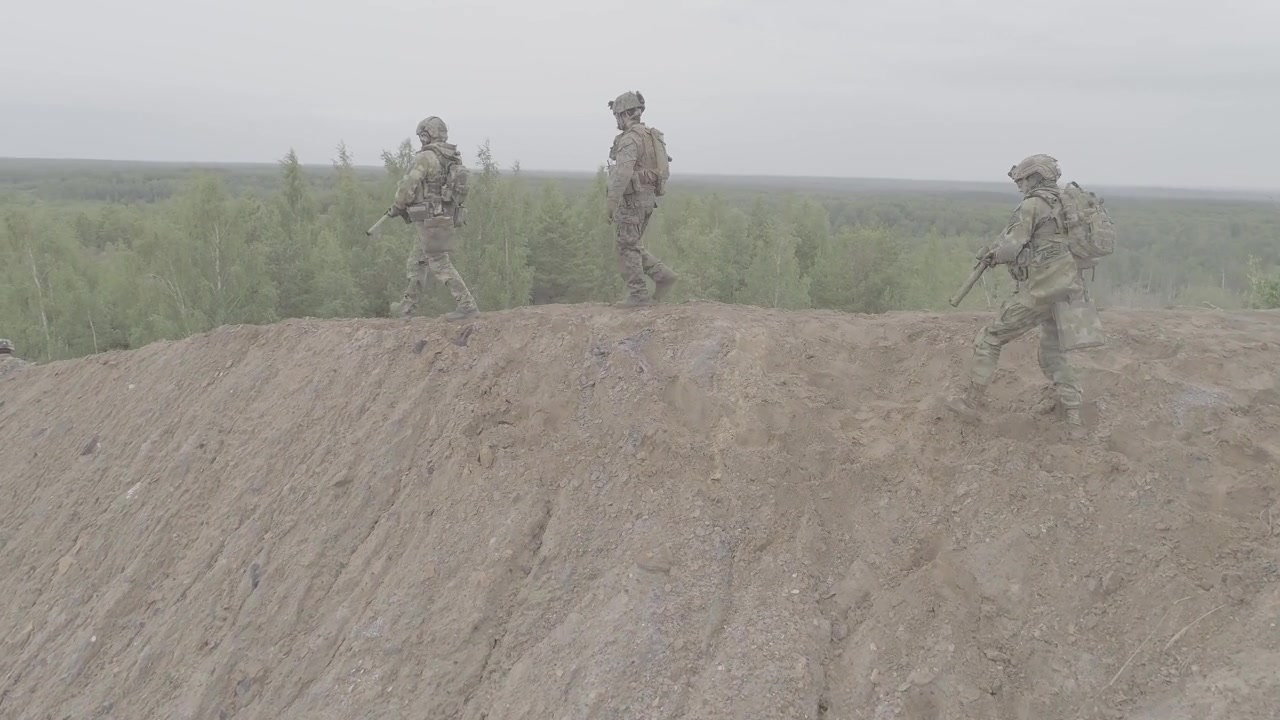person: (934, 150, 1122, 423), (584, 87, 675, 304), (396, 111, 488, 316)
